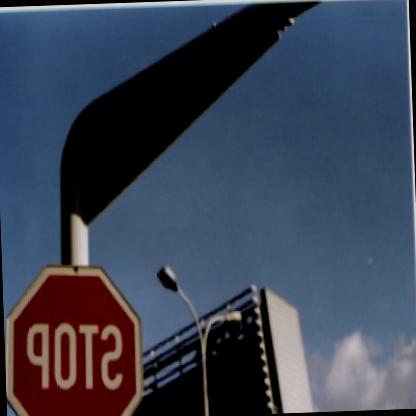stop: (2, 259, 147, 415)
